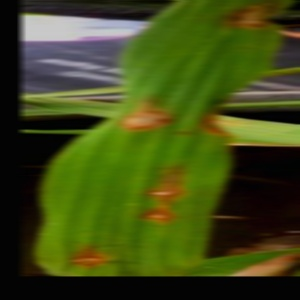Brown_Spot: (116, 84, 173, 141), (217, 0, 287, 44), (138, 152, 187, 202), (65, 234, 113, 275), (132, 203, 185, 237)
